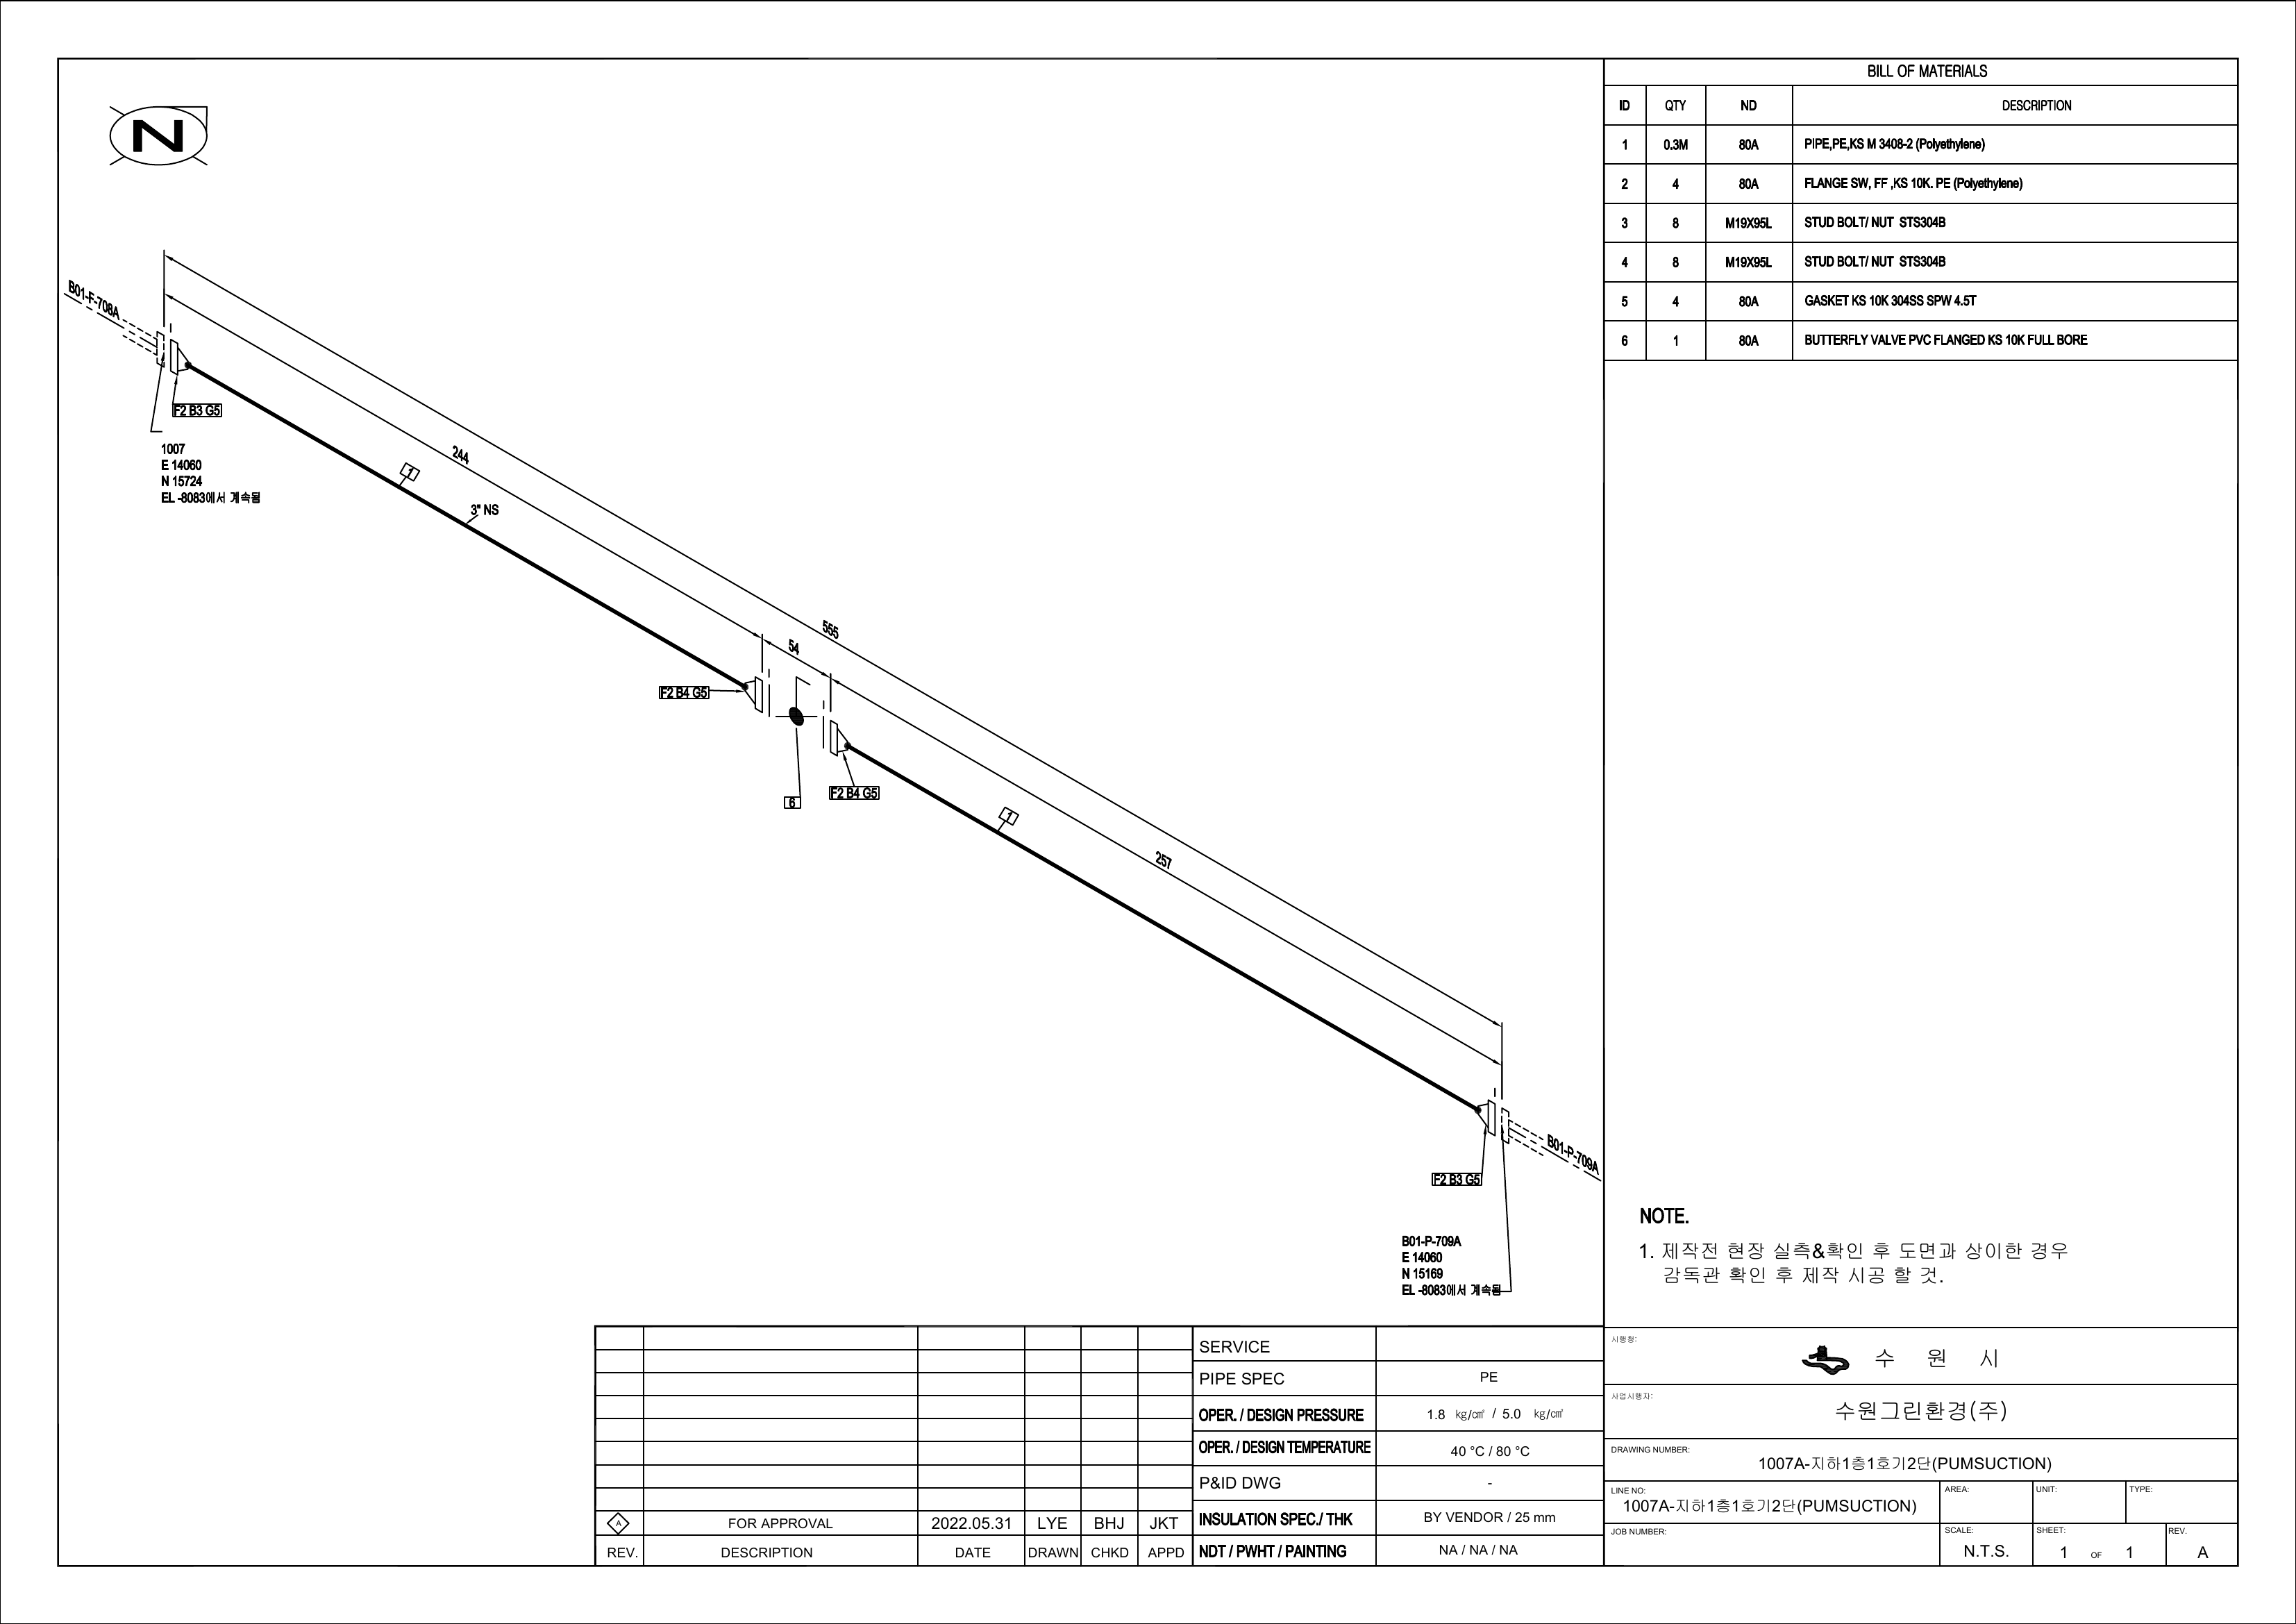table: (1593, 44, 2245, 371)
